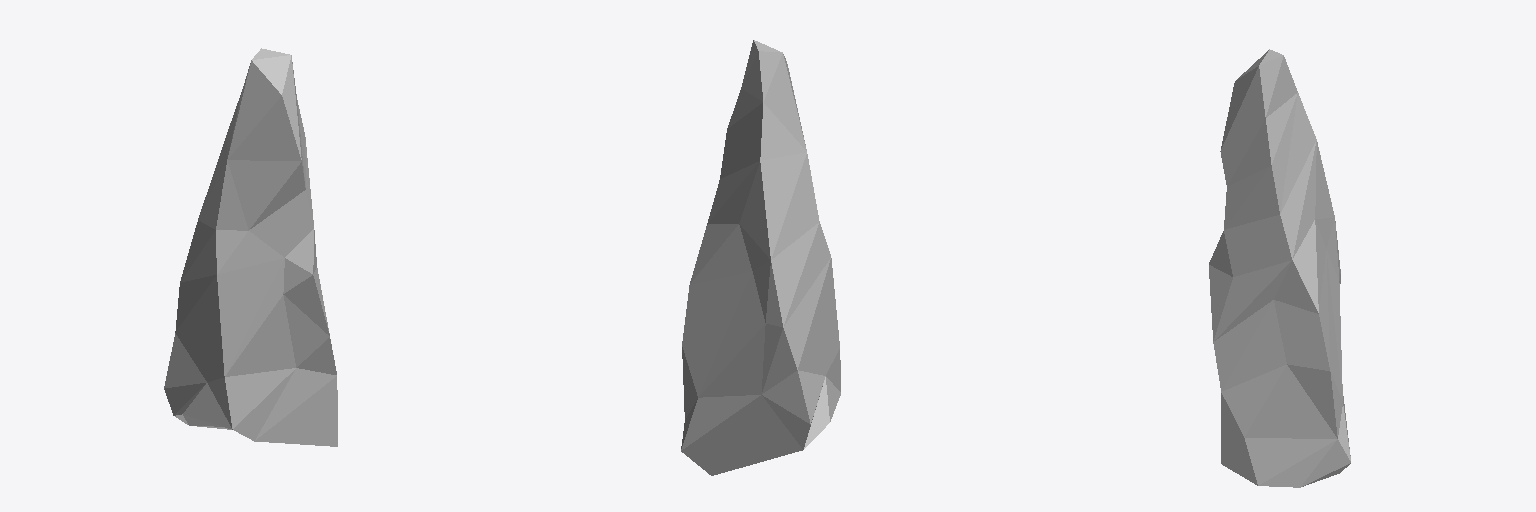
The model's file is CL_drums_dir3_LOD3.obj.
The picture shows the model from 3 angles: view 1: azimuth 30°, elevation 25°; view 2: azimuth 150°, elevation 25°; view 3: azimuth 270°, elevation 25°; orthographic projection.
Bounding box in the file's own units: 0.3455 × 0.9954 × 0.315.